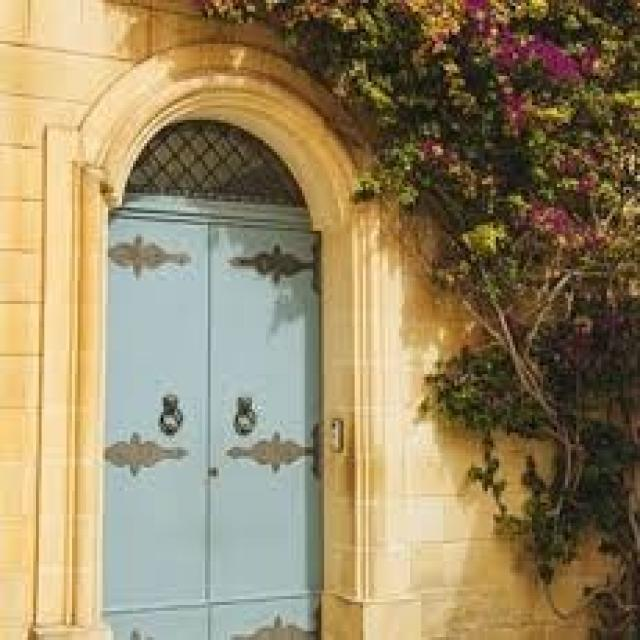door: (101, 203, 323, 639)
